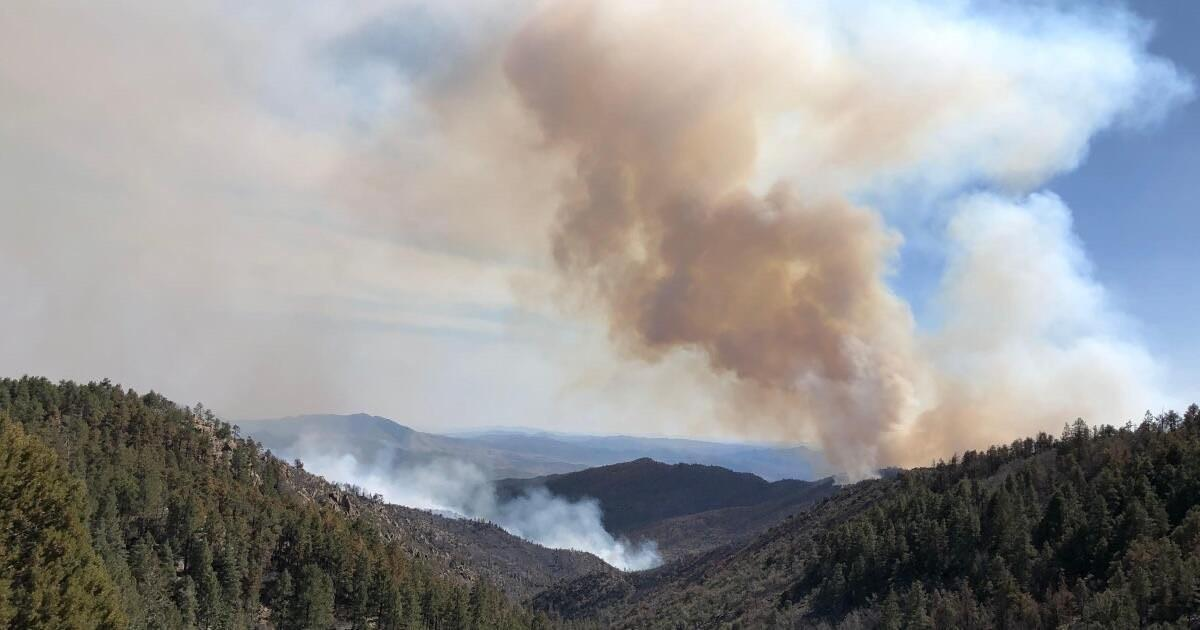smoke: (528, 74, 1147, 502), (704, 219, 1012, 500), (296, 421, 658, 592)
